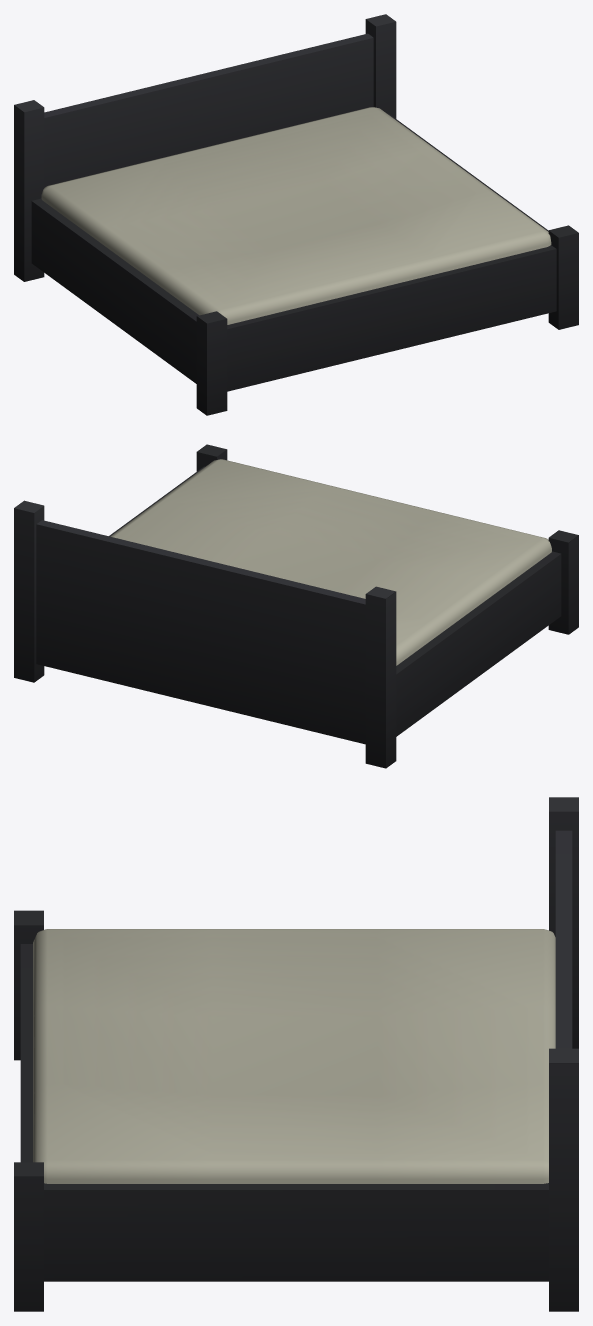
The model's file is Bed.fbx.
3 views of the same model, one above another, from view 1: azimuth 30°, elevation 25°; view 2: azimuth 150°, elevation 25°; view 3: azimuth 270°, elevation 25° (orthographic). The views are drawn at different scales.
Visible parts, largest first — view 1: Bed; view 2: Bed; view 3: Bed.
Boxes of the visible parts, bbox=[...] form: Bed: bbox=[14, 14, 578, 415]; Bed: bbox=[14, 444, 578, 768]; Bed: bbox=[14, 797, 578, 1311].
Bounding box in the file's own units: 3.34 × 1.46 × 3.
Materials: 1 (1 with a texture image).
